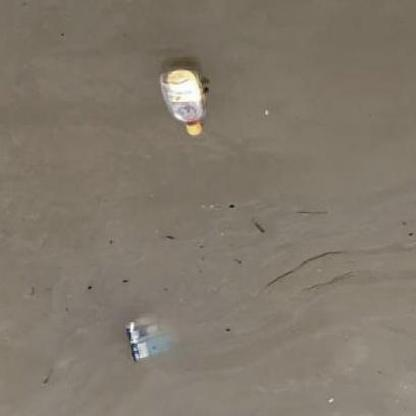plastic bottle: (159, 67, 209, 135)
